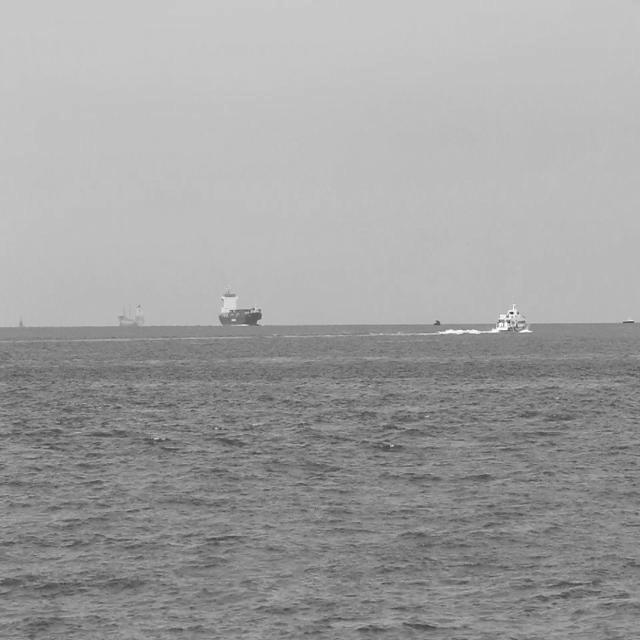ship: (216, 280, 264, 332), (494, 296, 530, 334), (116, 296, 147, 331), (620, 313, 638, 327)
